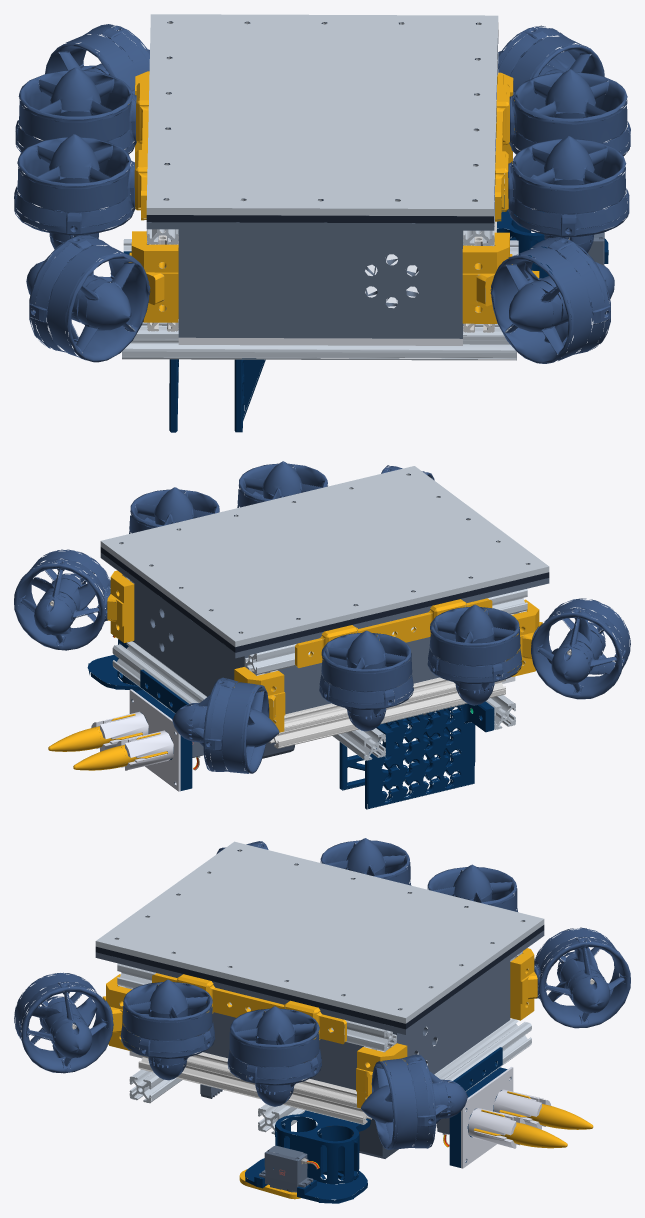
File: underwater-robot-split.glb
The picture shows the model from 3 angles, top to bottom: view 1: azimuth 30°, elevation 25°; view 2: azimuth 150°, elevation 25°; view 3: azimuth 270°, elevation 25°; orthographic projection. The views are drawn at different scales.
Visible parts, largest first — view 1: underwater-robot_split, VerticalDoubleThruster-2, Dynamic_Gripper-1 (Body B), Dynamic_Gripper-1 (Body A); view 2: underwater-robot_split, Dynamic_Gripper-1 (Body A), VerticalDoubleThruster-2, Dynamic_Gripper-1 (Body B); view 3: underwater-robot_split, VerticalDoubleThruster-2, CameraMountFront_-_Radial-1.
Part boxes in pixels (left/top/right/bottom): underwater-robot_split: left=14, top=14, right=630, bottom=363; VerticalDoubleThruster-2: left=128, top=71, right=514, bottom=323; Dynamic_Gripper-1 (Body B): left=234, top=358, right=265, bottom=432; Dynamic_Gripper-1 (Body A): left=123, top=251, right=178, bottom=432; underwater-robot_split: left=14, top=461, right=630, bottom=791; Dynamic_Gripper-1 (Body A): left=365, top=701, right=494, bottom=809; VerticalDoubleThruster-2: left=107, top=570, right=542, bottom=732; Dynamic_Gripper-1 (Body B): left=339, top=708, right=449, bottom=790; underwater-robot_split: left=14, top=838, right=630, bottom=1203; VerticalDoubleThruster-2: left=102, top=948, right=537, bottom=1108; CameraMountFront_-_Radial-1: left=326, top=1119, right=398, bottom=1158.
Bounding box in the file's own units: 3.4 × 1.34 × 3.47.
